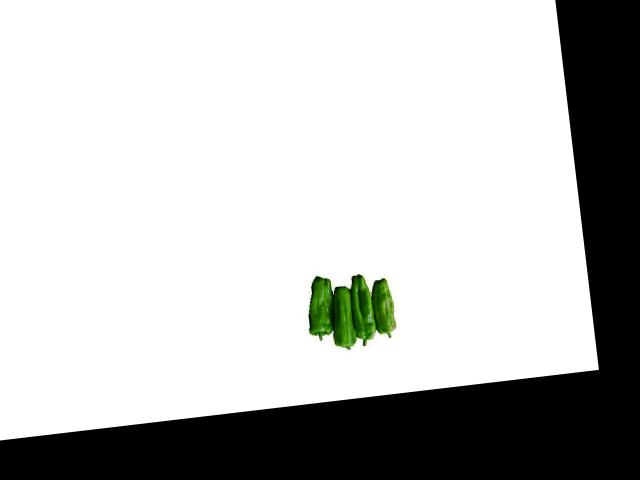bell_pepper: (302, 269, 338, 345)
